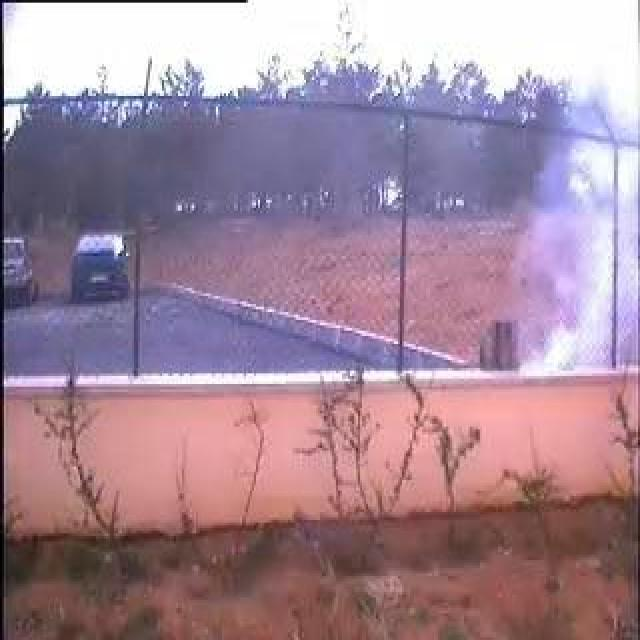Smoke: (489, 88, 625, 371)
